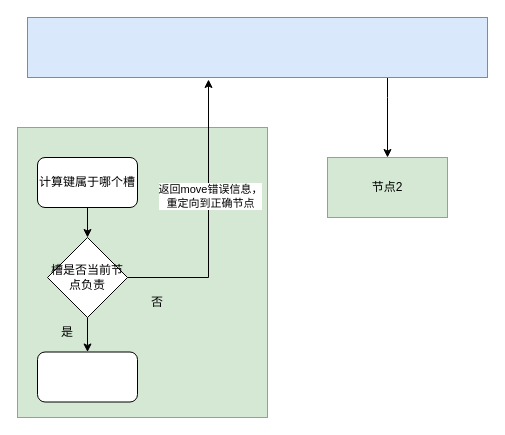
This 505x435 diagram has some shape labels left out. The shapes that lost their labels are listed below. From the top down, each one's centre as x and y in pixels, then its label:
At point (257, 47): "redis客户端".
At point (87, 376): "执行命令".
